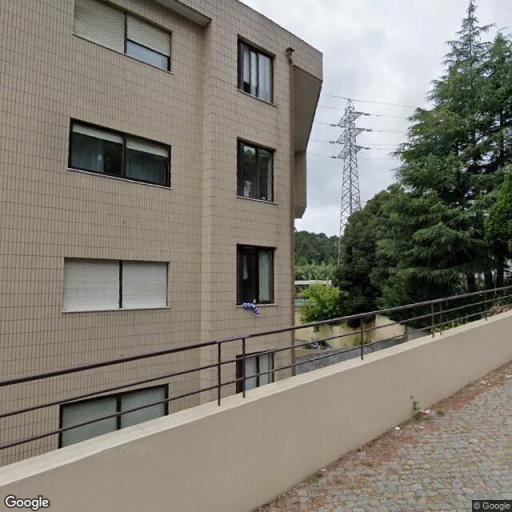ss_3: (330, 95, 370, 267)
